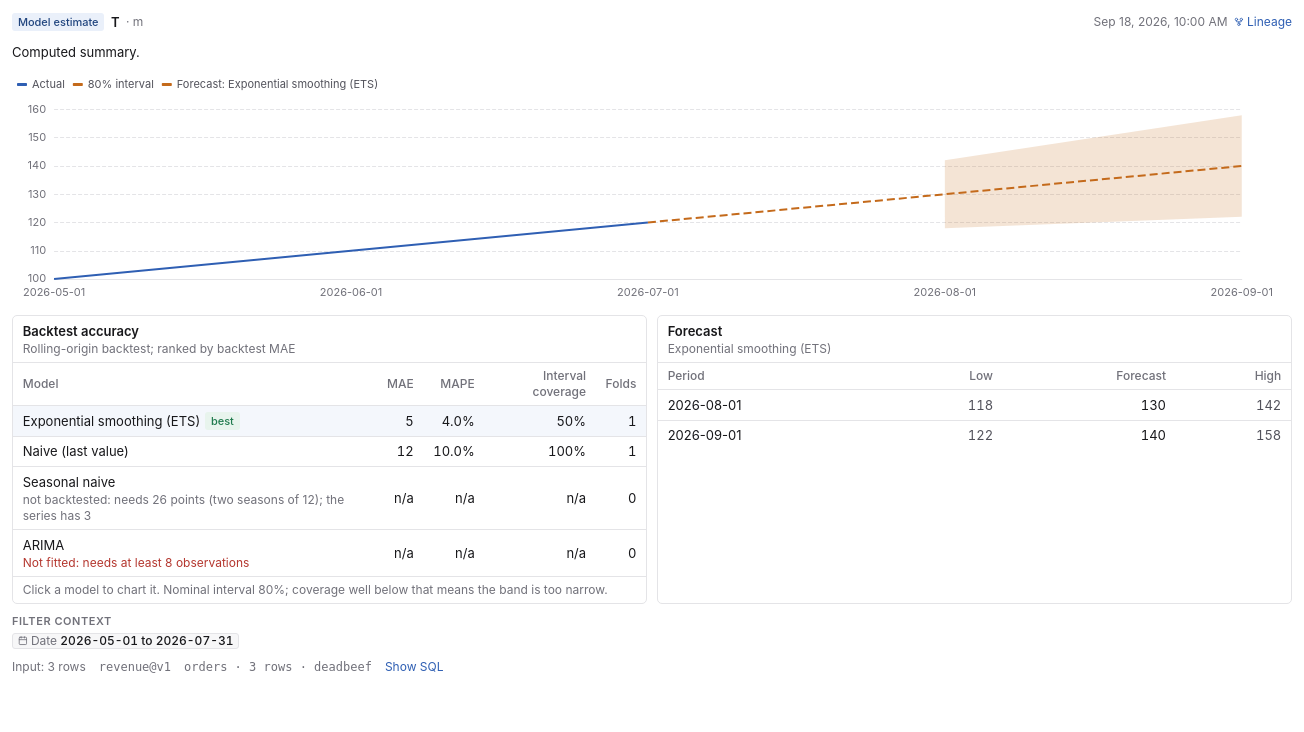
analysis views › shows the forecast chart, backtest table and forecast intervals; clicking a model switches the forecast
expect the picture named "Forecast with prediction interval" is shown: met, box [12,72,1292,306]
expect the row "Exponential smoothing (ETS) best 5 4.0% 50% 1" is shown: met, box [13,405,646,436]
Click the text "Naive (last value)". click: (76, 451)
box: [23,443,129,459]
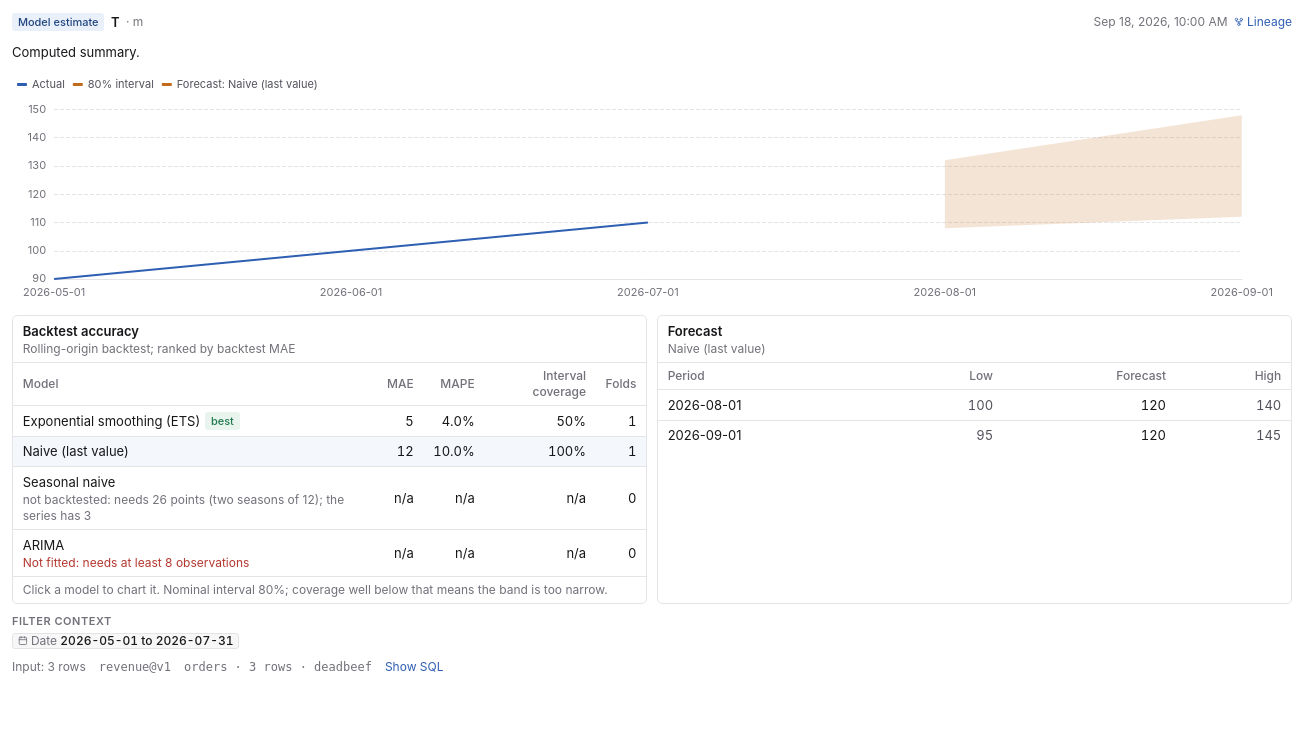
expect the text with test id "analysis-summary" reads "Computed summary.": met, box [12,44,140,60]
expect the row "2026-08-01 100 120 140" is shown: met, box [658,389,1291,420]
